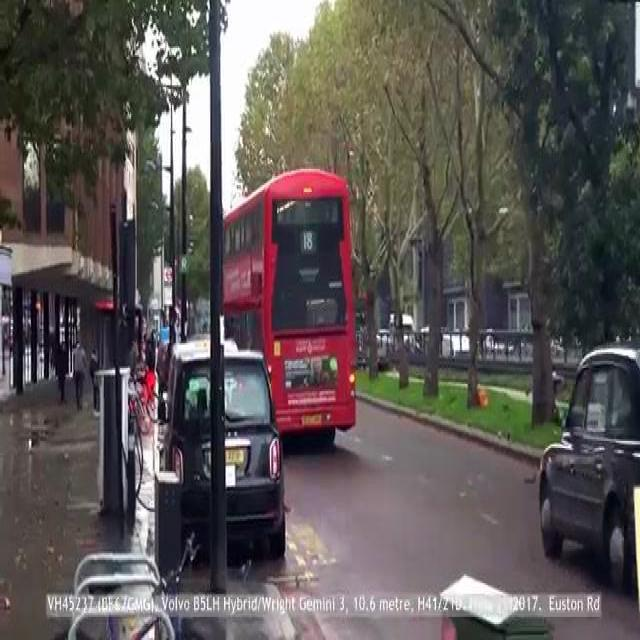motorcycle: (212, 167, 364, 446)
